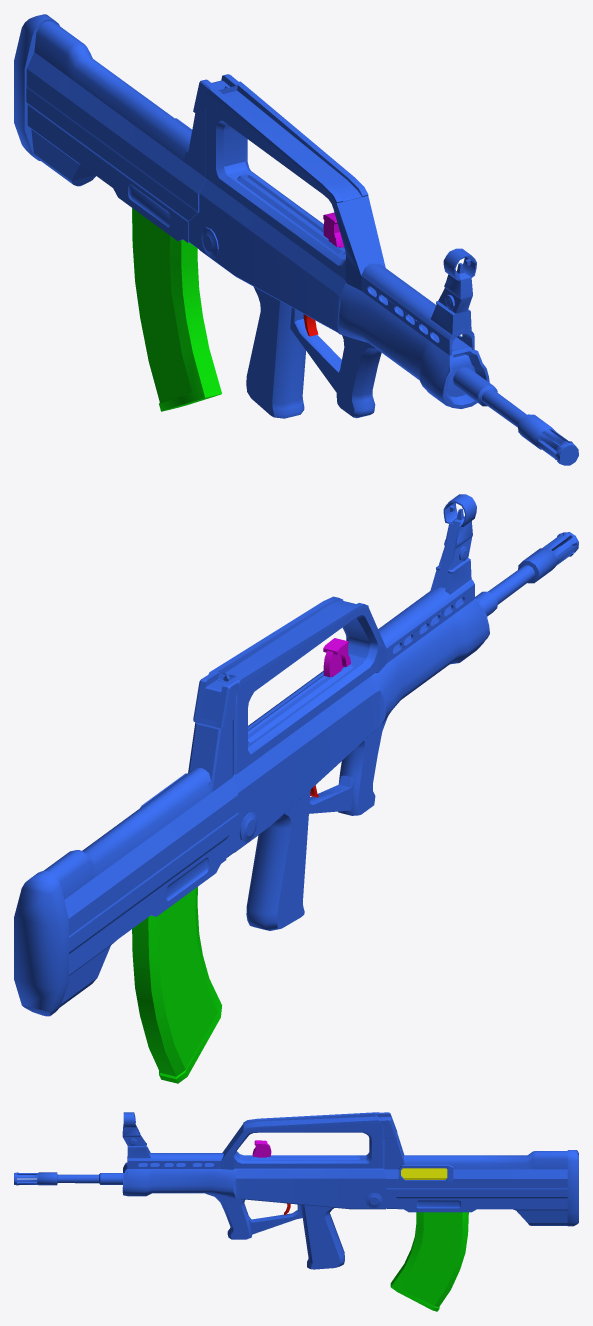
The model's file is Base QBZ2 Opt.fbx.
3 renders of one model, top to bottom at view 1: azimuth 30°, elevation 25°; view 2: azimuth 150°, elevation 25°; view 3: azimuth 270°, elevation 25°, orthographic. The views are drawn at different scales.
Visible parts, largest first — view 1: Body; view 2: Body; view 3: Body.
Part boxes in pixels (x1,y1,x2,y2): Body: (14, 14, 578, 465); Body: (14, 494, 578, 1083); Body: (14, 1112, 578, 1311).
Size of the model in its own units: 4.38 by 32.07 by 83.64.
